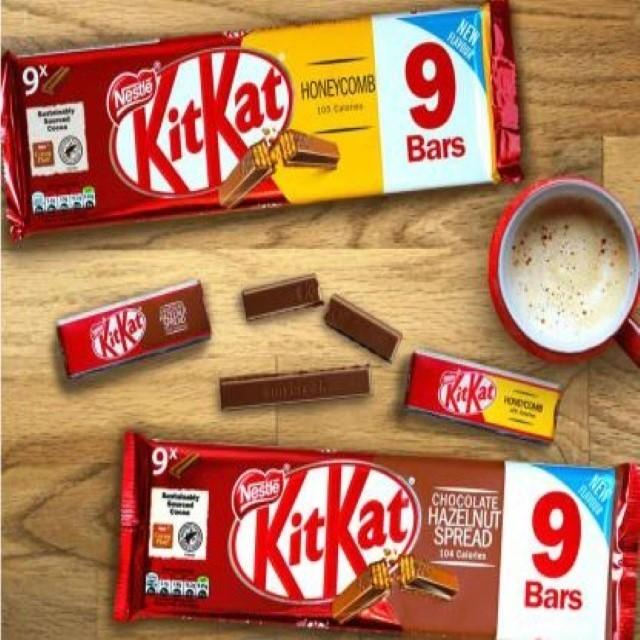kitkat_chocolate: (106, 418, 640, 636), (10, 47, 535, 203), (418, 350, 558, 437), (75, 298, 207, 374)
